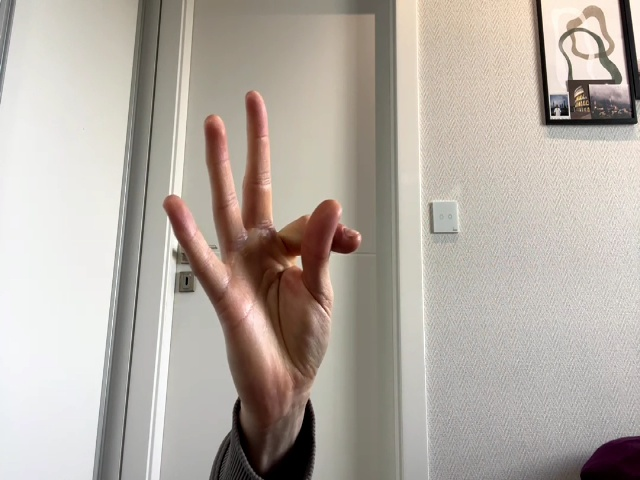T: (163, 90, 362, 401)
